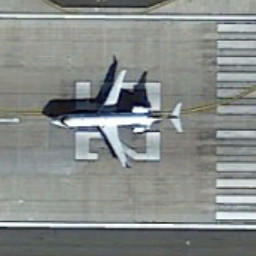Airplane: (35, 60, 193, 175)
